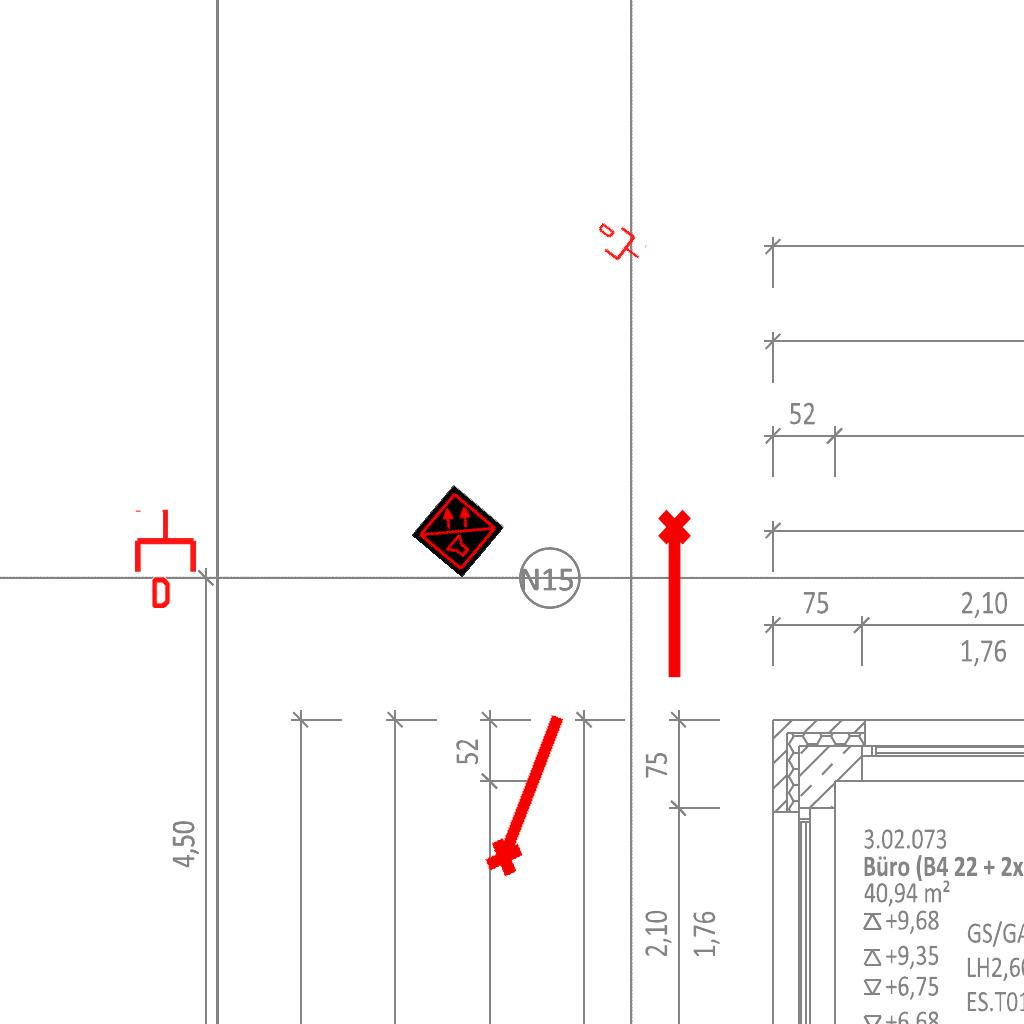ASR_Ansaugoeffnung: (472, 702, 580, 884), (654, 507, 700, 683)
Datenanschluss_einfach: (131, 508, 200, 608), (588, 214, 650, 272)
OKW_Multisensormelder_(Kombination_optischer_Rauch-Kahlenmonoxid_Waerme-Melder): (411, 484, 505, 578)
